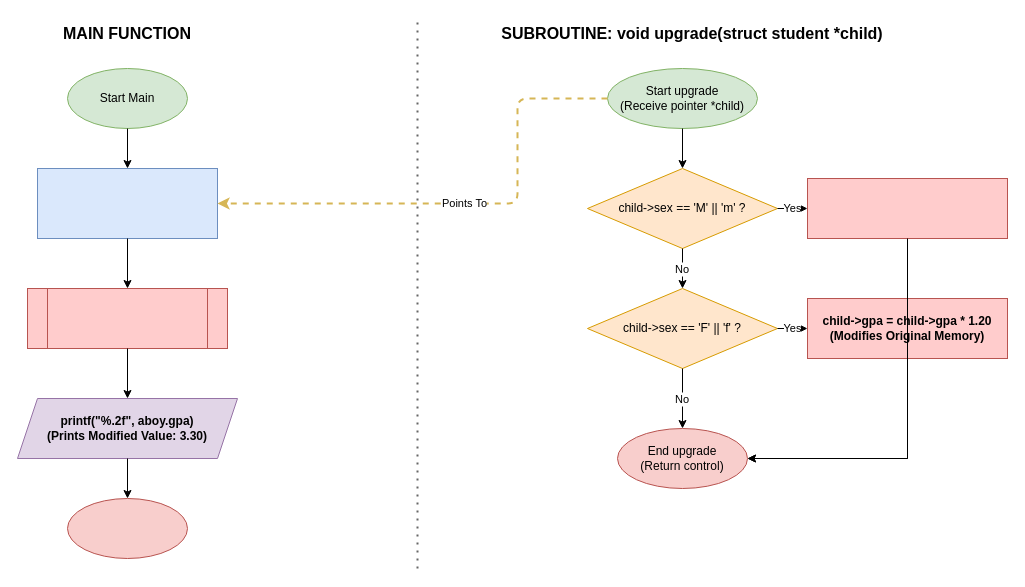
Image size: 1025x587. Some labels were removed from this diagram. Here are the shapes that lost their labels. From the top down, the box of each, then its label:
(36, 168, 218, 238): struct student aboy; aboy.sex = 'M' aboy.gpa = 3.00
(806, 178, 1008, 238): child->gpa = child->gpa * 1.10 (Modifies Original Memory)
(26, 288, 228, 348): upgrade( &aboy ) (Pass ADDRESS of aboy)
(66, 498, 188, 558): End Main / return 0
